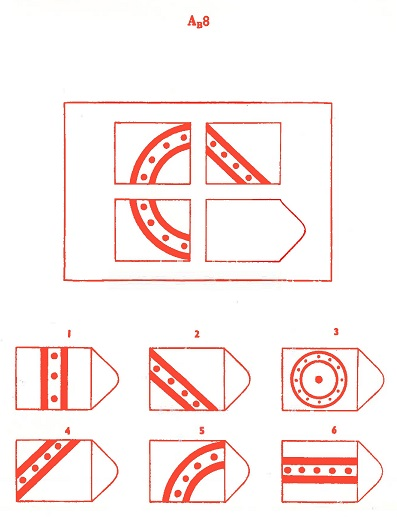Array 1: (11, 325, 122, 413)
Array 2: (144, 324, 254, 415)
Array 3: (277, 323, 387, 415)
Array 4: (12, 424, 123, 506)
Array 5: (145, 421, 257, 505)
Array 6: (277, 421, 386, 506)
Matrix 1: (109, 116, 195, 190)
Matrix 2: (201, 116, 286, 190)
Matrix 3: (110, 195, 194, 265)
Matrix Unknown: (203, 195, 308, 265)
